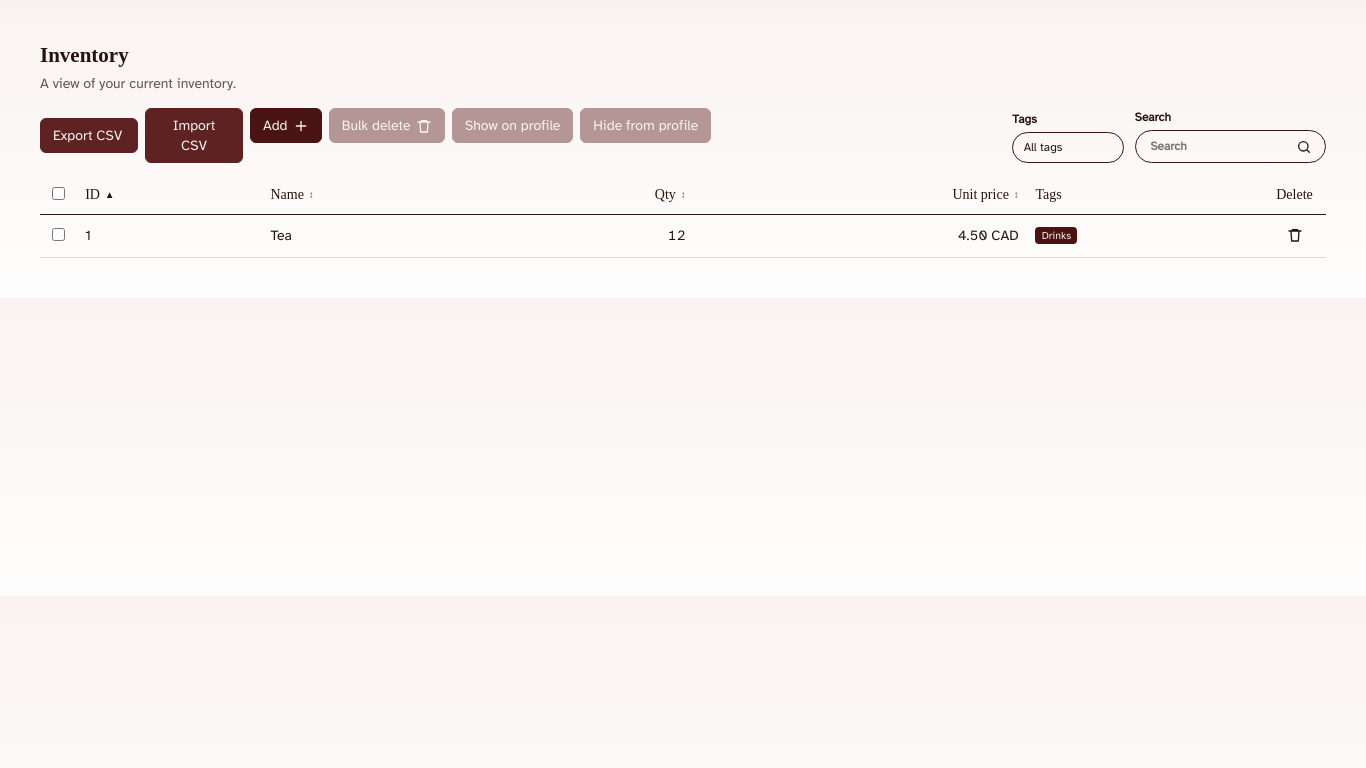
Test case: InventoryPage › shows an error when changing visibility fails
Check: the text "Tea" is shown, box [262,214,503,257]
Click the checkbox named "Select Tea": {"x": 59, "y": 234} [52,228,65,240]
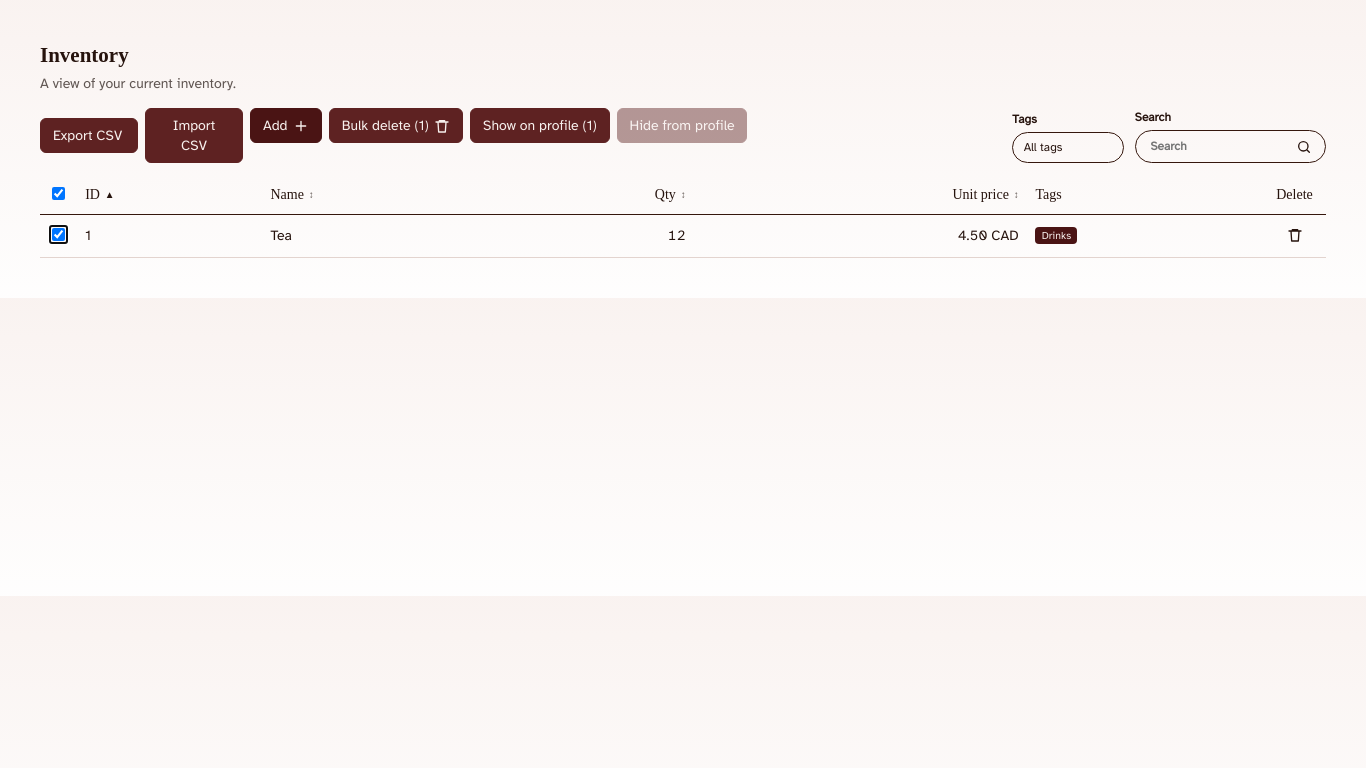
Click the button "Show on profile (1)": {"x": 540, "y": 126} [470,108,610,143]
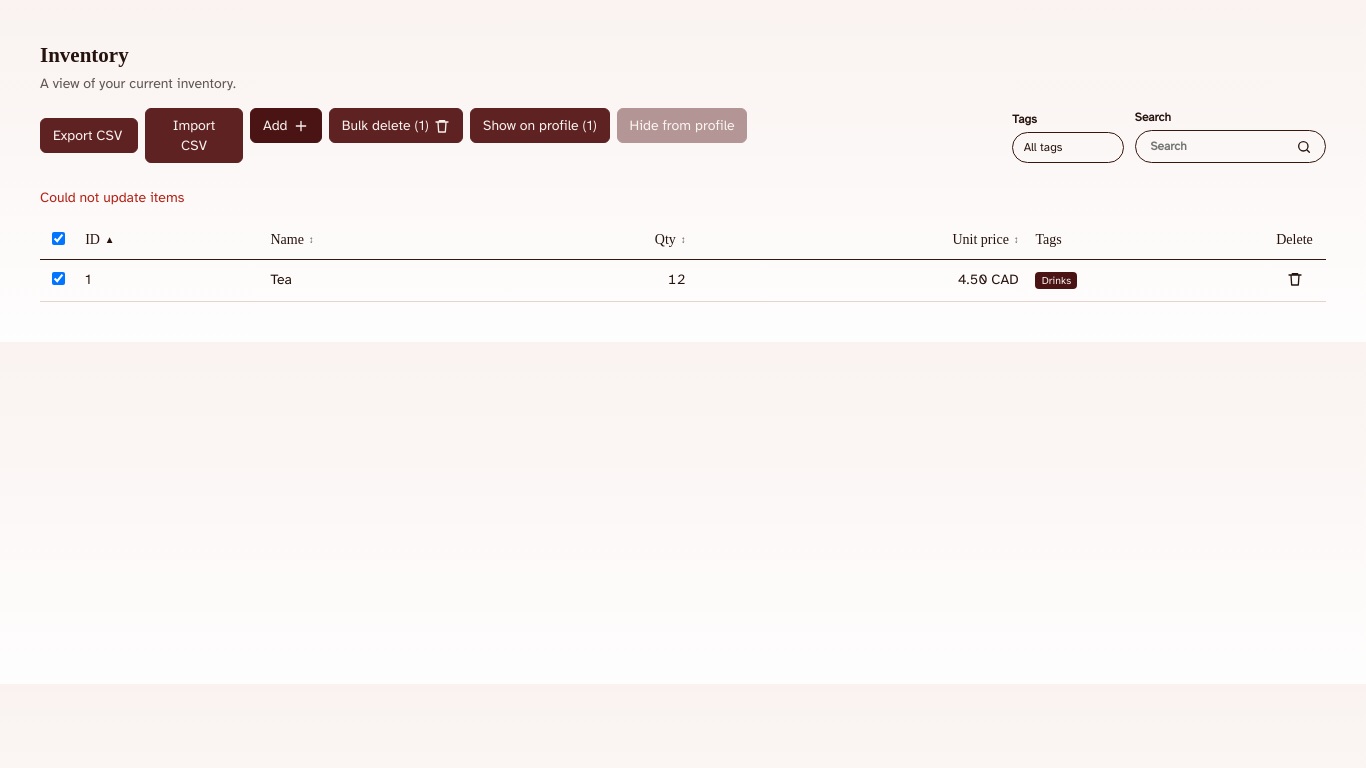
Check: the message reads "Could not update items", box [40,189,184,206]
